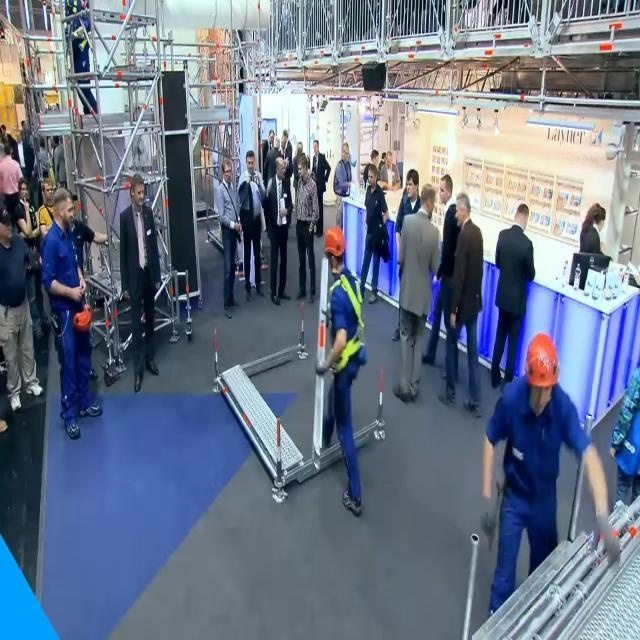Arnes_seguridad: (325, 268, 365, 373)
